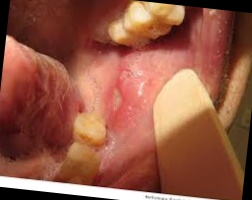Ulcer: (102, 68, 136, 117)
